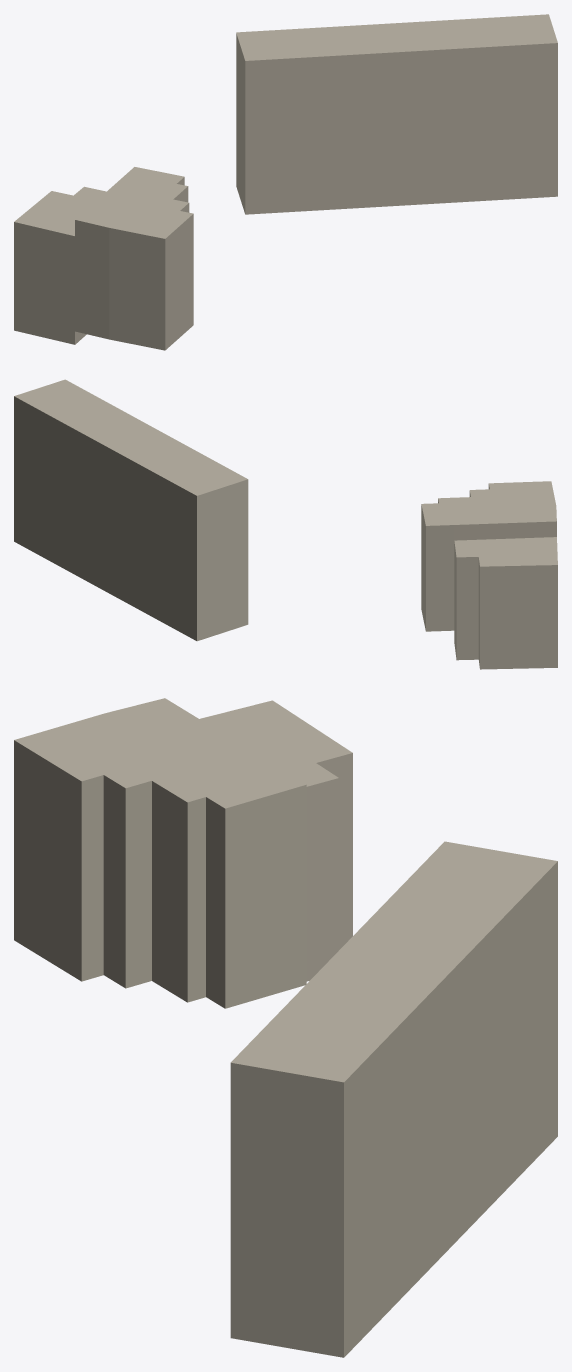
The model's file is bormla_63_25_collision.glb.
3 renders of one model, top to bottom at view 1: azimuth 30°, elevation 25°; view 2: azimuth 150°, elevation 25°; view 3: azimuth 270°, elevation 25°, orthographic. The views are drawn at different scales.
Visible parts, largest first — view 1: geometry_0; view 2: geometry_0; view 3: geometry_0.
Boxes of the visible parts, x1,y1,x2,y2 form: geometry_0: [14, 14, 557, 350]; geometry_0: [14, 379, 557, 669]; geometry_0: [14, 698, 557, 1357].
Size of the model in its own units: 61.7 by 17.67 by 29.23.
